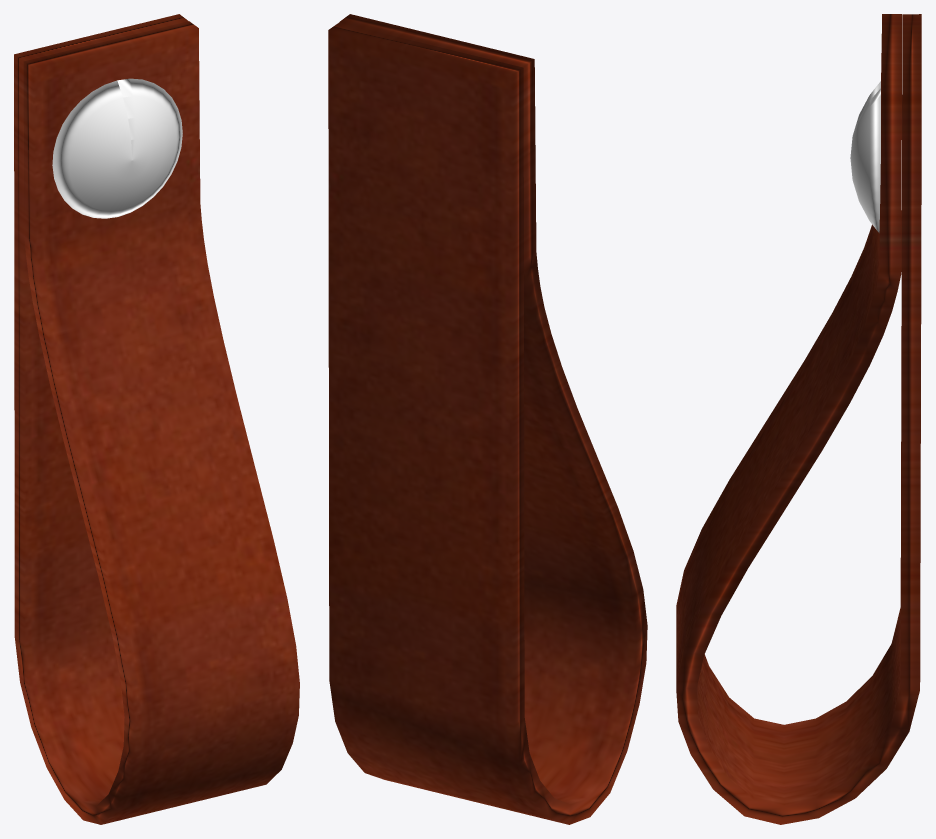
The model's file is 968.fixed.glb.
3 renders of one model, left to right at view 1: azimuth 30°, elevation 25°; view 2: azimuth 150°, elevation 25°; view 3: azimuth 270°, elevation 25°, orthographic. The views are drawn at different scales.
Parts seen in each view (by area): view 1: leather, chrome03; view 2: leather; view 3: leather, chrome03.
Part boxes in pixels (x1,y1,x2,y2): leather: [14, 14, 299, 824]; chrome03: [52, 78, 182, 218]; leather: [328, 14, 647, 824]; leather: [676, 14, 921, 824]; chrome03: [850, 81, 880, 232].
Size of the model in its own units: 0.02 by 0.0827 by 0.0252.
Materials: 2 (1 with a texture image).
